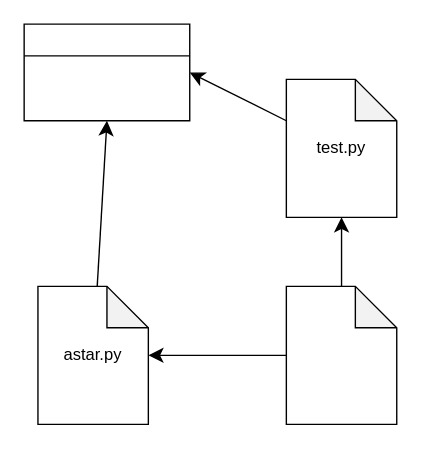
This 421x449 diagram has some shape labels left out. Each missing label, with the centre of its shape:
"evaluation.py" belongs at (106,72).
"state.py" belongs at (341,354).
